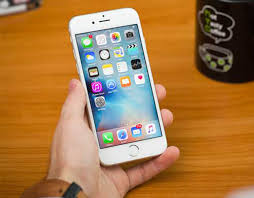iphone: (68, 5, 168, 172)
iphone6: (68, 7, 168, 174)
